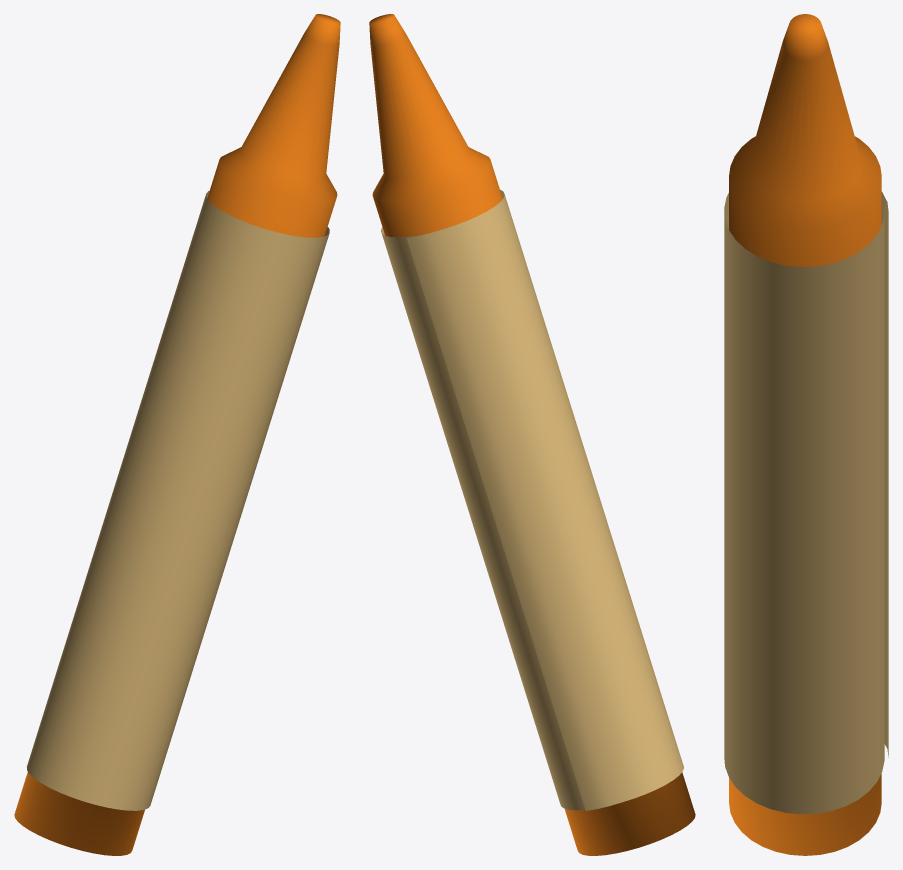
3 views of the same model, side by side, from view 1: azimuth 30°, elevation 25°; view 2: azimuth 150°, elevation 25°; view 3: azimuth 270°, elevation 25° (orthographic). The views are drawn at different scales.
Parts seen in each view (by area): view 1: Orange_Crayon; view 2: Orange_Crayon; view 3: Orange_Crayon.
Part boxes in pixels (x1=…): Orange_Crayon: x1=14, y1=14, x2=340, y2=855; Orange_Crayon: x1=369, y1=14, x2=695, y2=855; Orange_Crayon: x1=724, y1=14, x2=888, y2=855.
Size of the model in its own units: 0.5166 by 1.21 by 0.1883.
